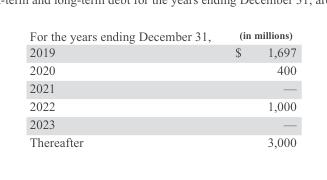table: (28, 28, 295, 149)
table column: (28, 28, 222, 149), (222, 28, 295, 149)
table column header: (28, 28, 295, 43)
table row: (28, 60, 295, 78), (28, 78, 295, 96), (28, 96, 295, 114), (28, 114, 295, 132), (28, 43, 295, 60), (28, 132, 295, 149), (28, 28, 295, 43)
